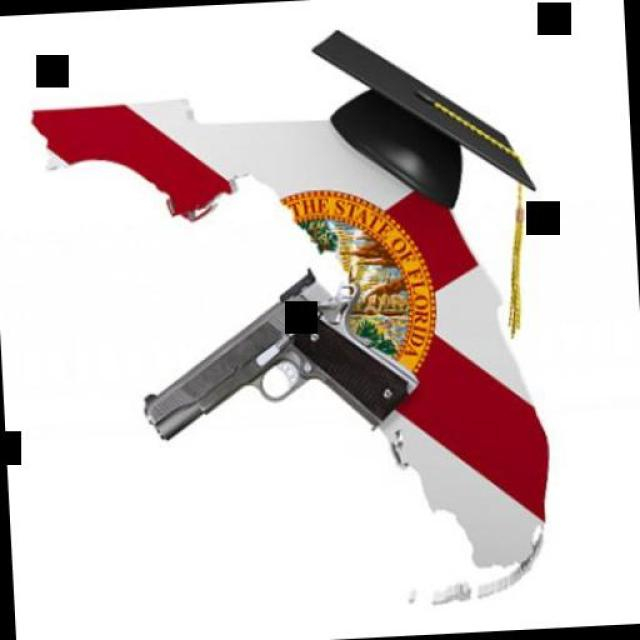gun: (140, 256, 438, 452)
